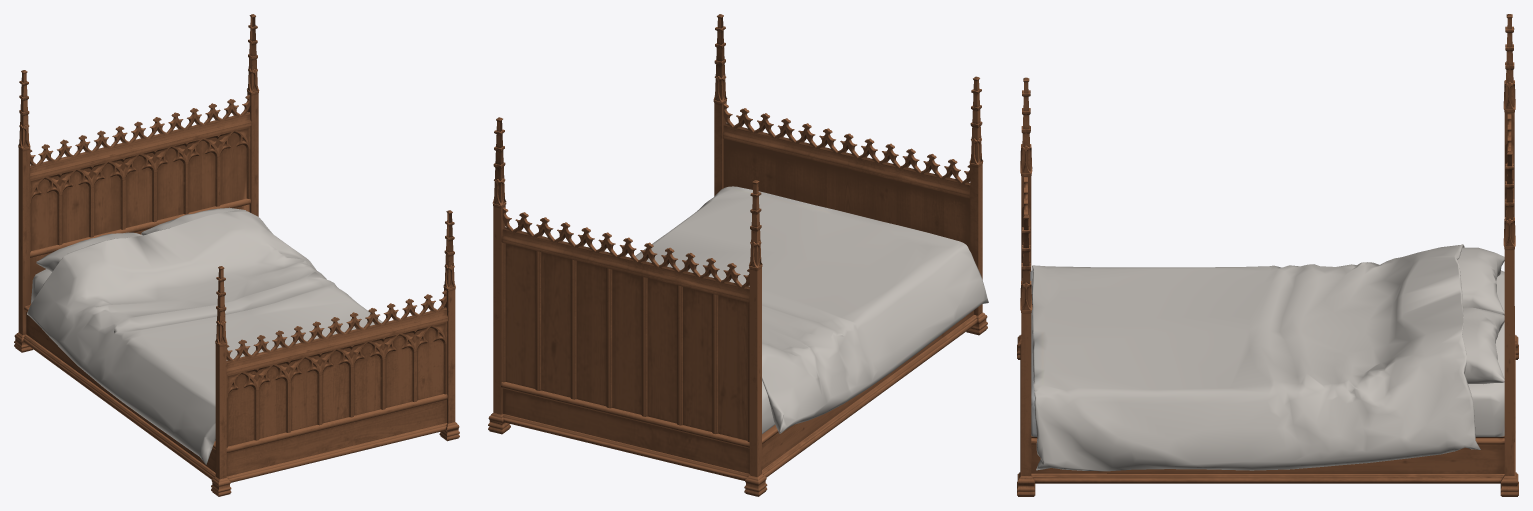
Rendered from bed-carved.glb.
3 renders of one model, left to right at view 1: azimuth 30°, elevation 25°; view 2: azimuth 150°, elevation 25°; view 3: azimuth 270°, elevation 25°, orthographic. The views are drawn at different scales.
Parts seen in each view (by area): view 1: GothicBed_01; view 2: GothicBed_01; view 3: GothicBed_01.
Boxes of the visible parts, x1,y1,x2,y2 form: GothicBed_01: [14, 14, 459, 496]; GothicBed_01: [488, 14, 988, 496]; GothicBed_01: [1017, 14, 1518, 496].
Bounding box in the file's own units: 1.49 × 1.53 × 2.04.
Materials: 2 (2 with a texture image).
